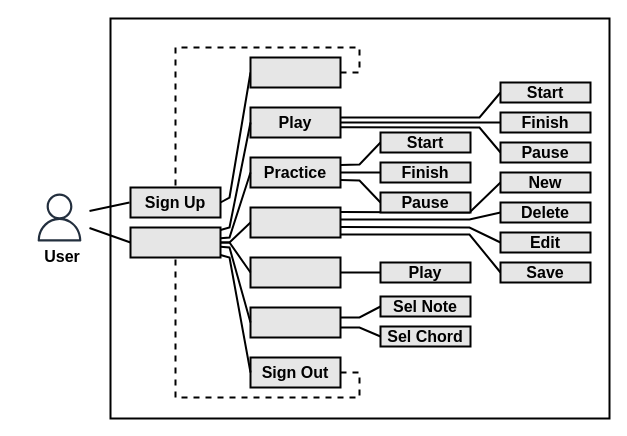
Image size: 627x436. Some labels were removed from this diagram. Each missing label, with the centre of its shape:
"Chords" belongs at (x=295, y=322).
"Compose" belongs at (x=295, y=222).
"Jam" belongs at (x=295, y=272).
"Login" belongs at (x=175, y=242).
"Register" belongs at (x=295, y=72).
